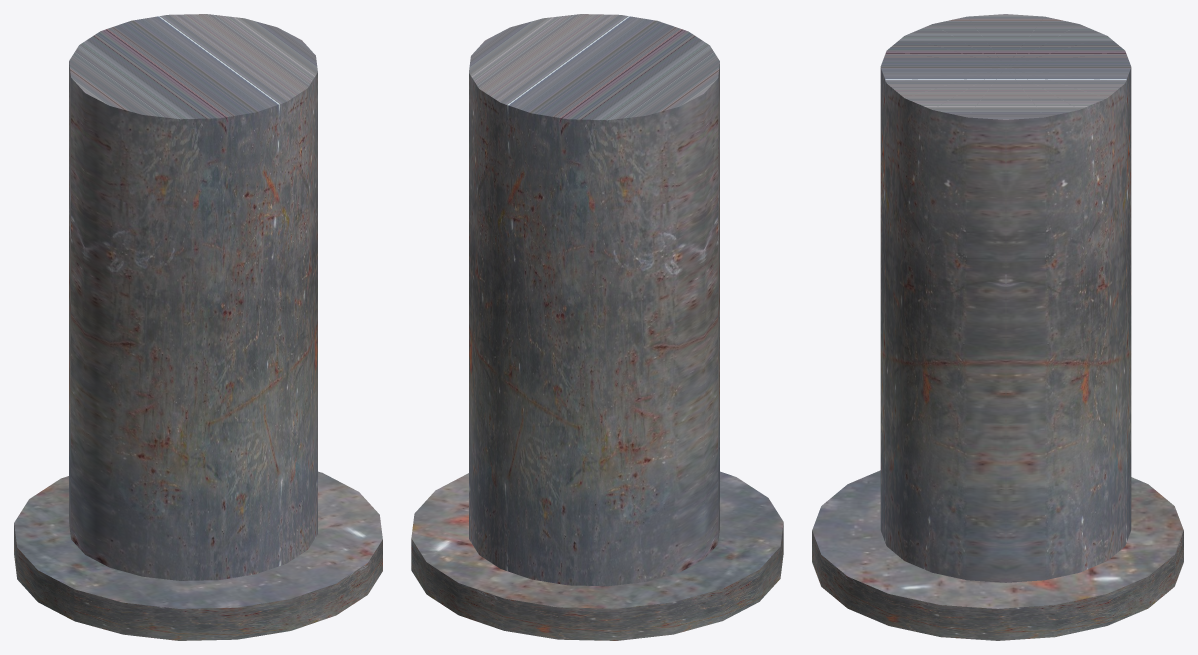
File: baseSilla4.obj
3 renders of one model, left to right at view 1: azimuth 30°, elevation 25°; view 2: azimuth 150°, elevation 25°; view 3: azimuth 270°, elevation 25°, orthographic.
Parts seen in each view (by area): view 1: tablerocontrol:polySurface14 polySurface29, polySurface29 tablerocontrol:polySurface15; view 2: tablerocontrol:polySurface14 polySurface29, polySurface29 tablerocontrol:polySurface15; view 3: tablerocontrol:polySurface14 polySurface29, polySurface29 tablerocontrol:polySurface15.
Part boxes in pixels (x1,y1,x2,y2): tablerocontrol:polySurface14 polySurface29: (69,14,317,580); polySurface29 tablerocontrol:polySurface15: (14,471,382,640); tablerocontrol:polySurface14 polySurface29: (469,14,719,586); polySurface29 tablerocontrol:polySurface15: (411,471,783,640); tablerocontrol:polySurface14 polySurface29: (880,14,1131,582); polySurface29 tablerocontrol:polySurface15: (812,470,1183,640).
Size of the model in its own units: 0.0601 by 0.0883 by 0.0601.
Materials: 3 (3 with a texture image).
